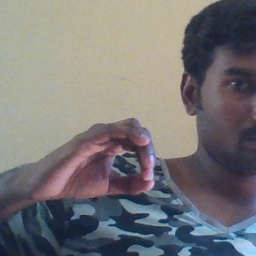O: (35, 111, 158, 203)
